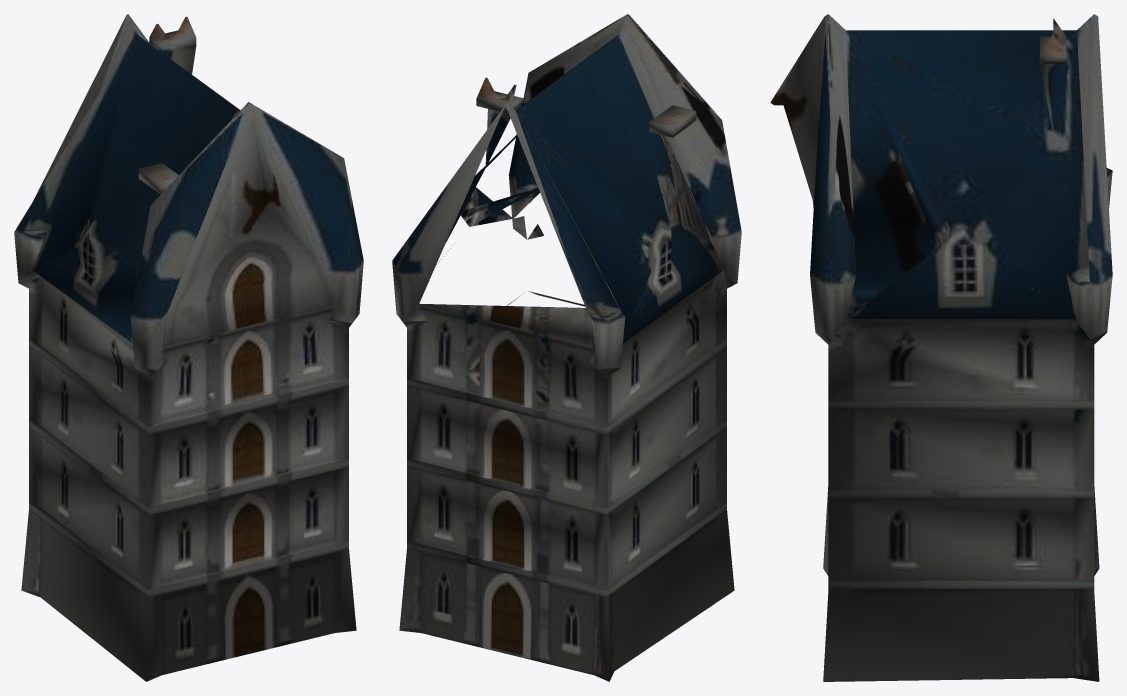
Rendered from house-7.glb.
The picture shows the model from 3 angles, left to right: view 1: azimuth 30°, elevation 25°; view 2: azimuth 150°, elevation 25°; view 3: azimuth 270°, elevation 25°; orthographic projection. The views are drawn at different scales.
Visible parts, largest first — view 1: tripo_node_cf9bfa7b-2bb0-43d7-92de-0ec38; view 2: tripo_node_cf9bfa7b-2bb0-43d7-92de-0ec38; view 3: tripo_node_cf9bfa7b-2bb0-43d7-92de-0ec38.
Part boxes in pixels (left/top/right/bottom): tripo_node_cf9bfa7b-2bb0-43d7-92de-0ec38: left=14, top=14, right=363, bottom=681; tripo_node_cf9bfa7b-2bb0-43d7-92de-0ec38: left=392, top=14, right=741, bottom=681; tripo_node_cf9bfa7b-2bb0-43d7-92de-0ec38: left=770, top=14, right=1112, bottom=681.
Size of the model in its own units: 10.13 by 23 by 11.66.
1 material, 1 textured.
